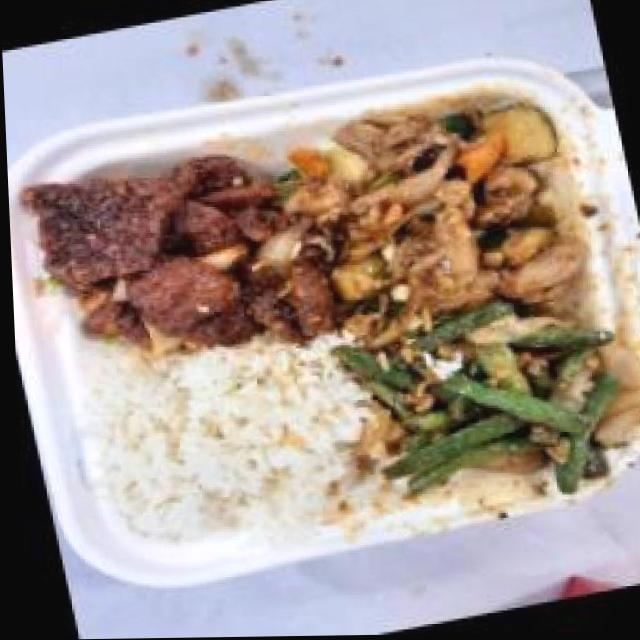Beijing Beef: (18, 128, 331, 380)
Kung Pao Chicken: (268, 76, 590, 345)
String Bean Chicken Breast: (343, 278, 640, 519)
White Steamed Rice: (69, 318, 383, 569)
